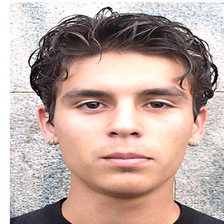no_mask: (54, 55, 192, 192)
